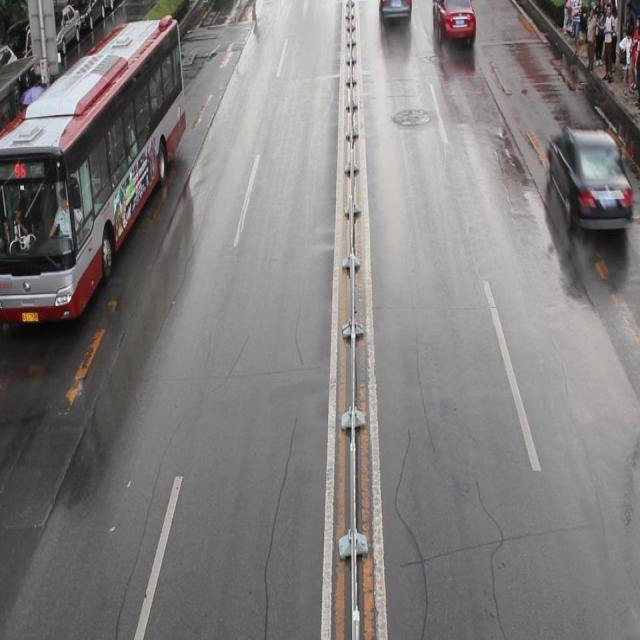car: (547, 128, 632, 226), (430, 1, 476, 42), (379, 1, 410, 20)
van: (1, 17, 186, 321)
